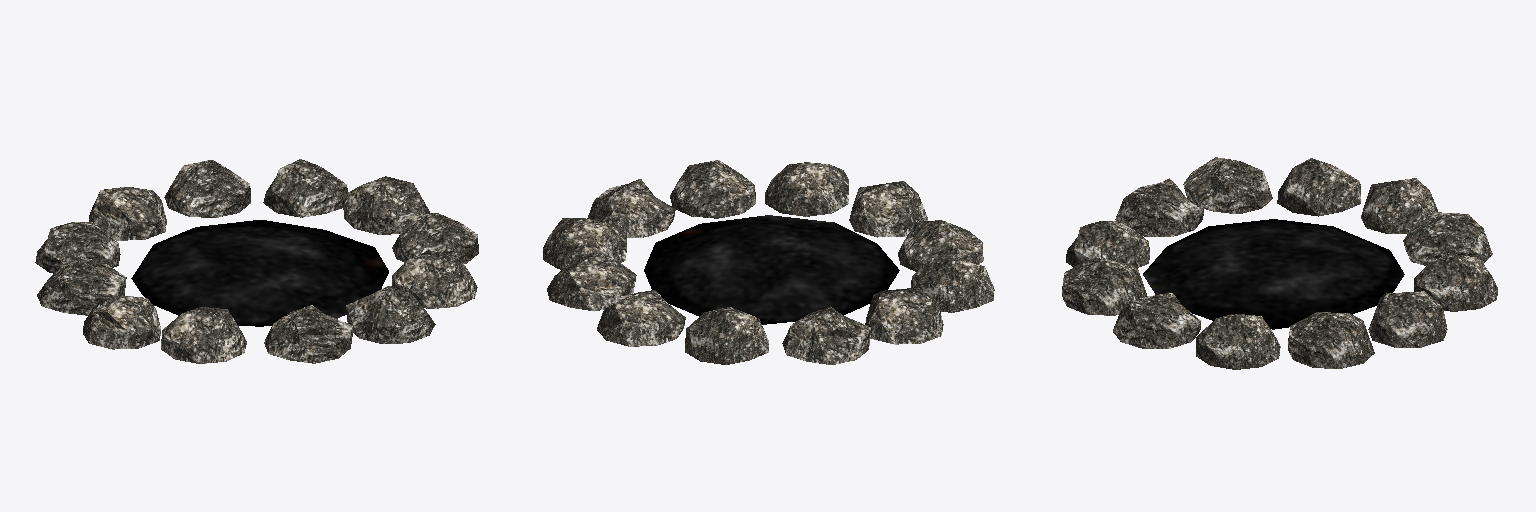
3 renders of one model, left to right at view 1: azimuth 30°, elevation 25°; view 2: azimuth 150°, elevation 25°; view 3: azimuth 270°, elevation 25°, orthographic.
Parts seen in each view (by area): view 1: skin; view 2: skin; view 3: skin.
Part boxes in pixels (bbox=[...]): skin: bbox=[35, 159, 478, 363]; skin: bbox=[543, 160, 994, 364]; skin: bbox=[1062, 157, 1497, 369].
Bounding box in the file's own units: 4.9 × 0.4312 × 4.71.
Materials: 1 (1 with a texture image).